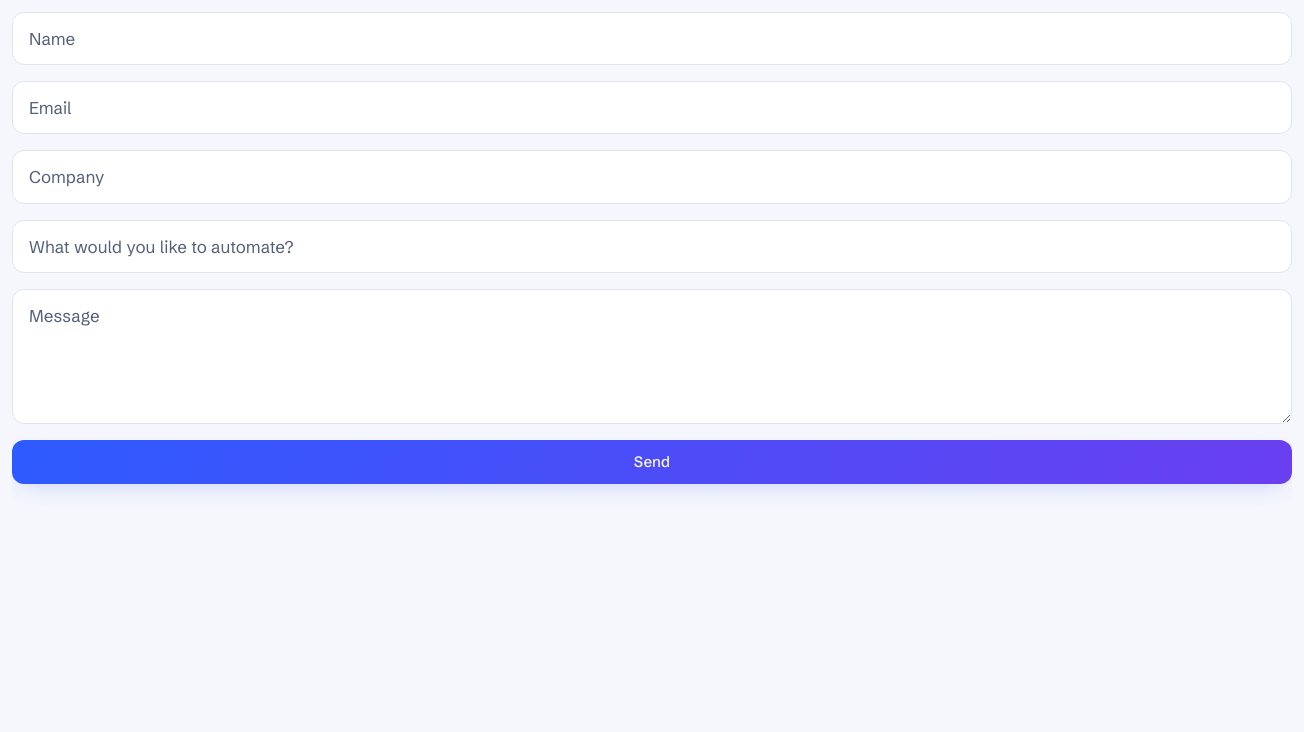
it: ContactForm › shows an error message after a failed submit
Type "Jane" into the field with placeholder "Name" at point(652, 39), box left=12, top=12, right=1292, bottom=65
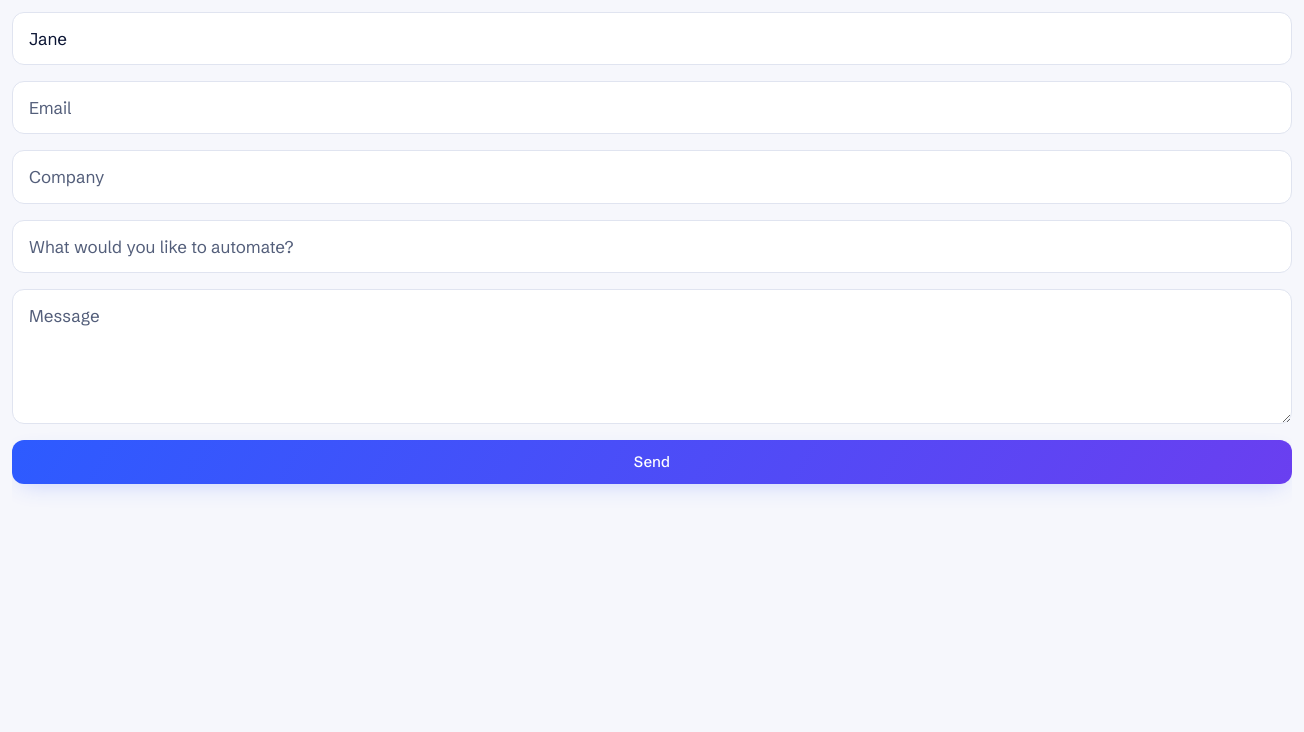
Type "jane@example.com" into the field with placeholder "Email" at point(652, 108), box left=12, top=81, right=1292, bottom=134
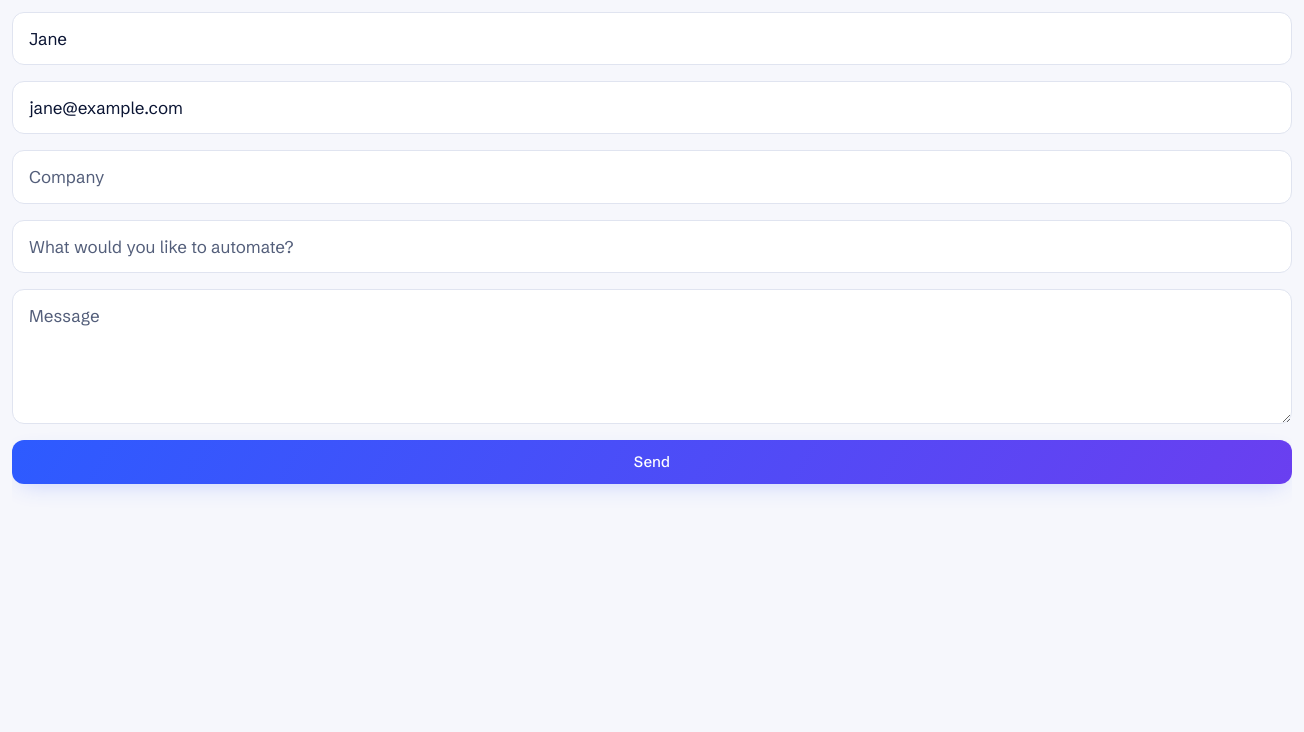
Click the button "Send" at point(652, 462), box left=12, top=440, right=1292, bottom=484
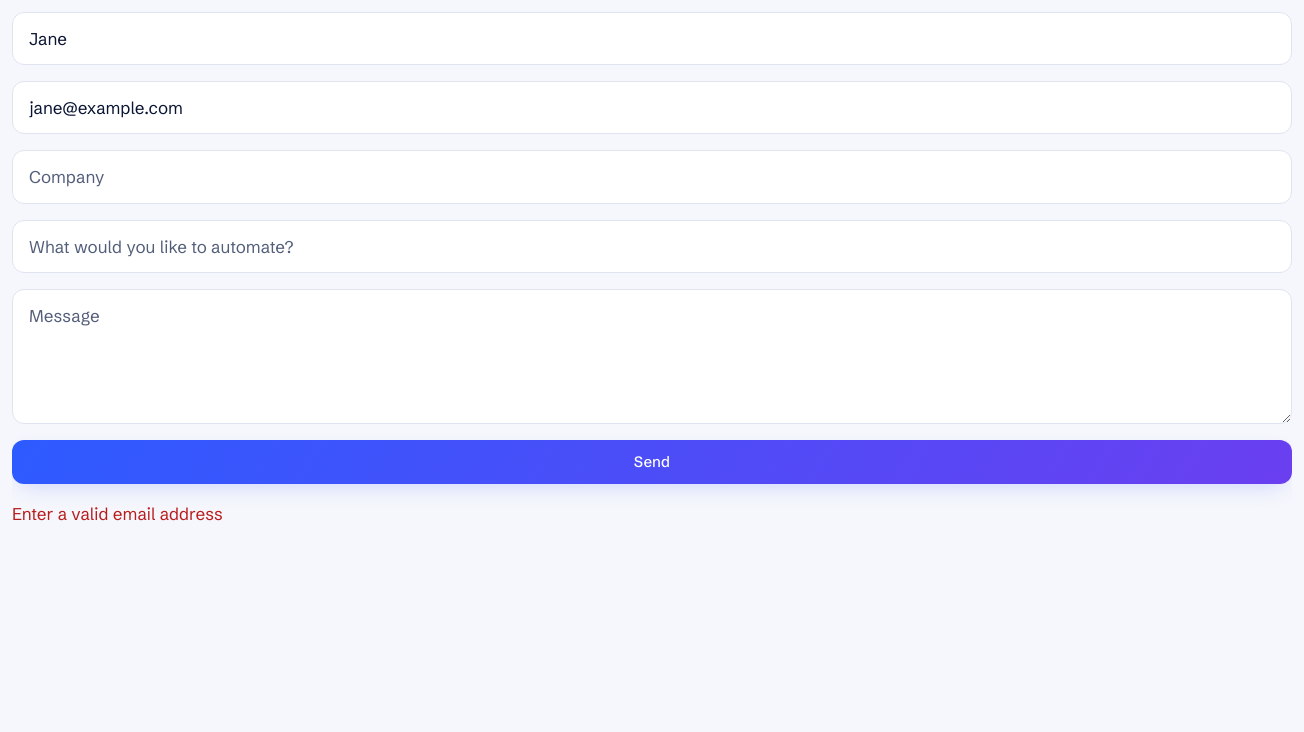
Now the message with test id "form-error" reads "Enter a valid email address", box left=12, top=502, right=223, bottom=524
